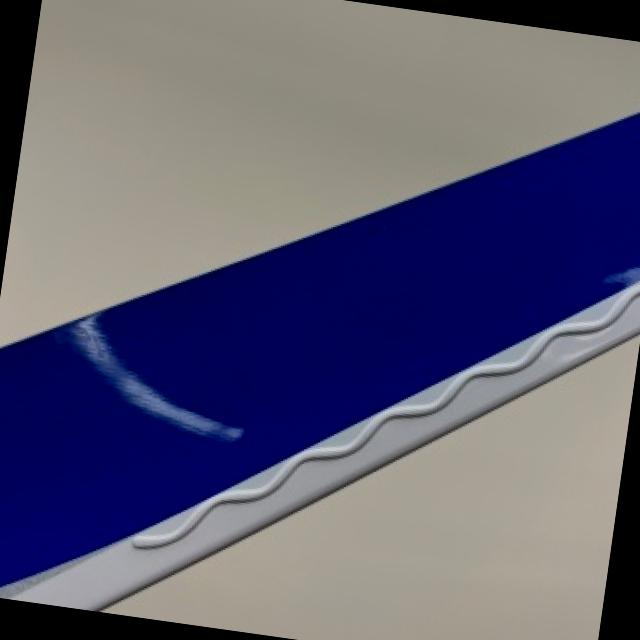healthy: (105, 339, 638, 640)
